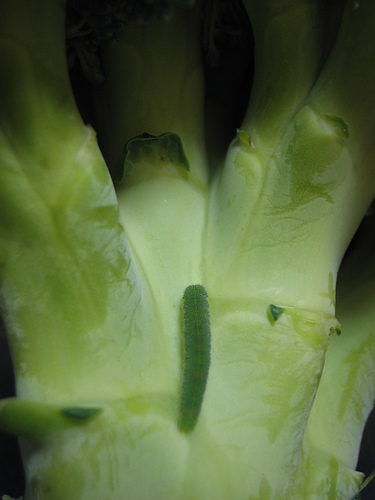broccoli: (0, 0, 373, 498)
